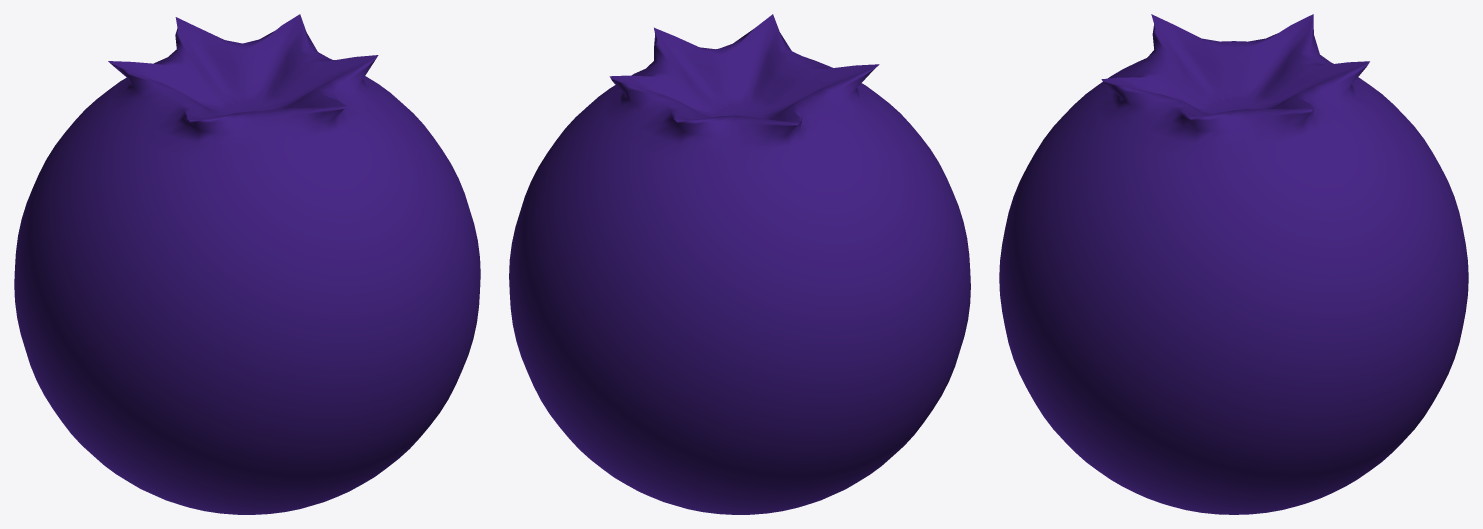
File: Blueberry.fbx
3 renders of one model, left to right at view 1: azimuth 30°, elevation 25°; view 2: azimuth 150°, elevation 25°; view 3: azimuth 270°, elevation 25°, orthographic.
Parts seen in each view (by area): view 1: pSphere3; view 2: pSphere3; view 3: pSphere3.
Part boxes in pixels (bbox=[...]): pSphere3: bbox=[14, 14, 480, 514]; pSphere3: bbox=[509, 14, 970, 514]; pSphere3: bbox=[999, 14, 1468, 514].
Size of the model in its own units: 0.349 by 0.3533 by 0.349.
